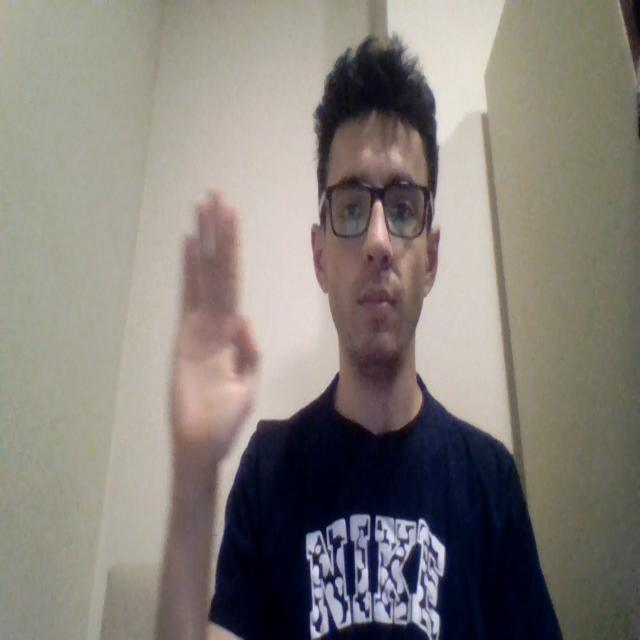hello: (168, 188, 262, 470)
